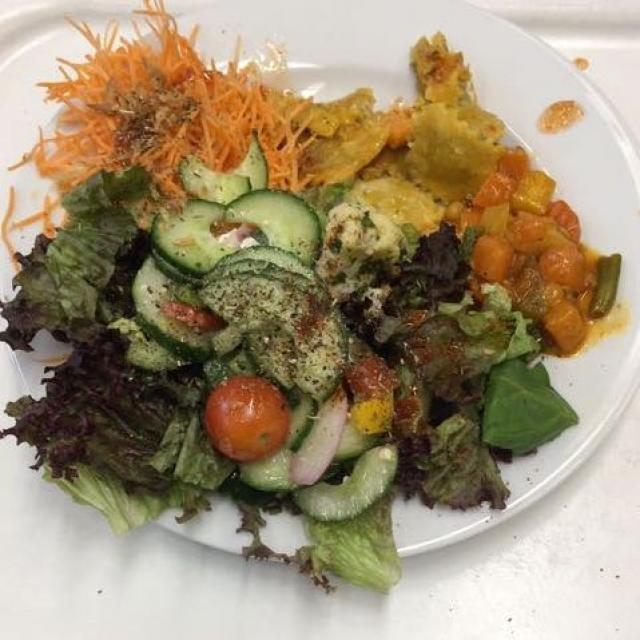carrot: (25, 14, 329, 221)
cucumber: (98, 131, 351, 410)
curry-vegetarian: (446, 131, 634, 352)
pasta: (305, 80, 505, 192)
salad: (4, 157, 588, 570)
tomato: (183, 374, 303, 470)
